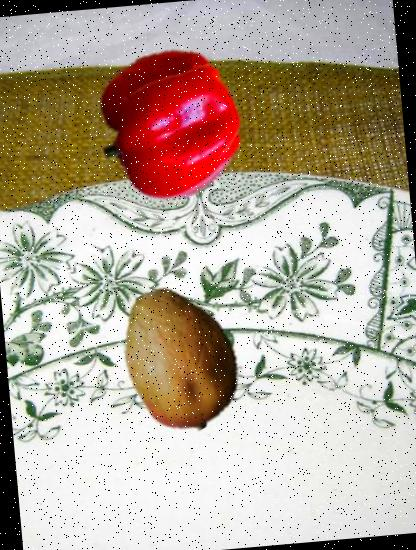Papaya: (100, 279, 259, 438)
Pepper: (88, 44, 250, 208)
